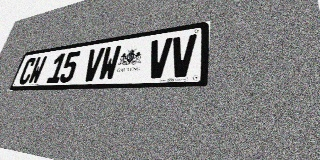1: (46, 53, 68, 83)
5: (58, 51, 81, 83)
C: (17, 57, 37, 85)
V: (168, 34, 197, 78), (145, 37, 173, 79), (81, 47, 105, 82)
W: (97, 45, 122, 81), (27, 56, 48, 84)
